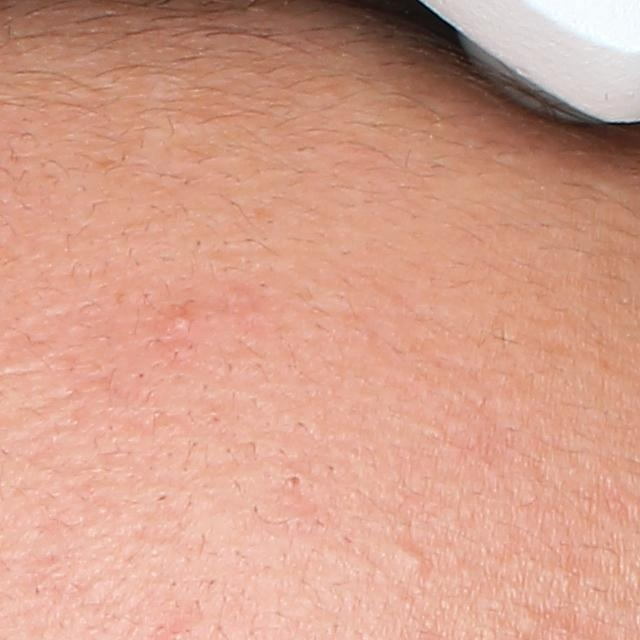comedo: (386, 535, 432, 590), (281, 471, 308, 494)
